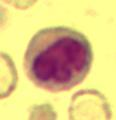lymphocyte: (20, 21, 100, 92)
